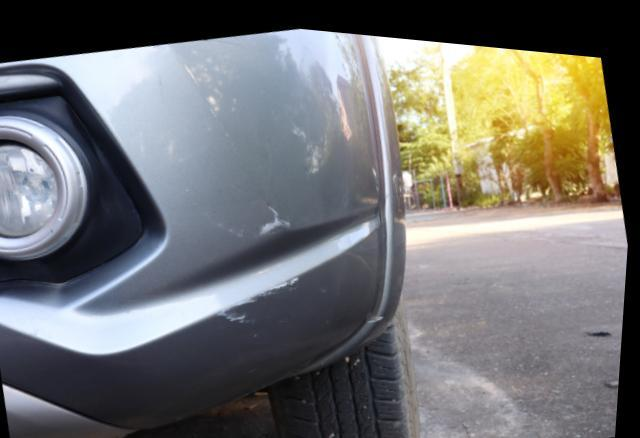scratch: (222, 268, 303, 321), (204, 196, 295, 231)
